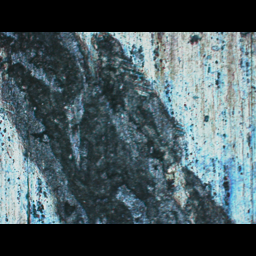d: (0, 32, 243, 223)
